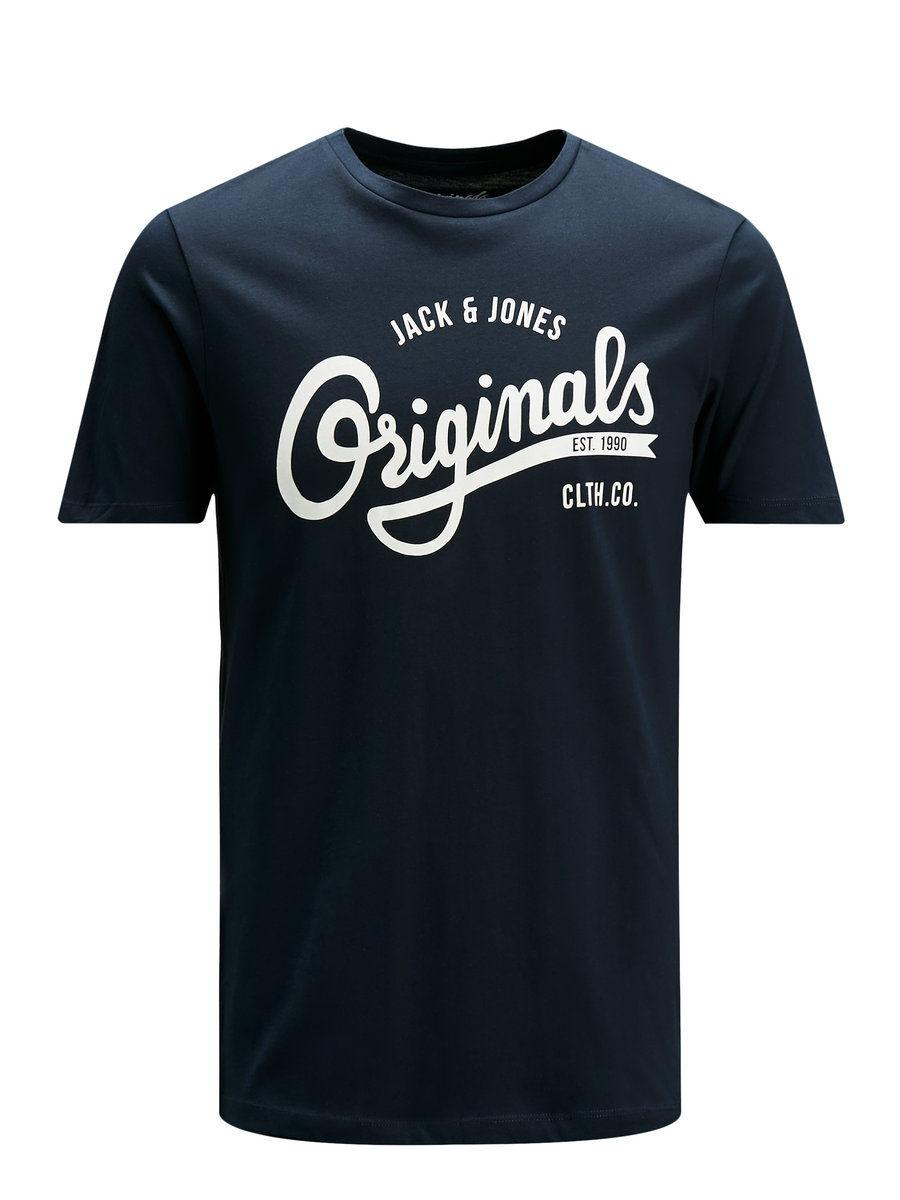teeshirt: (29, 123, 871, 1165)
